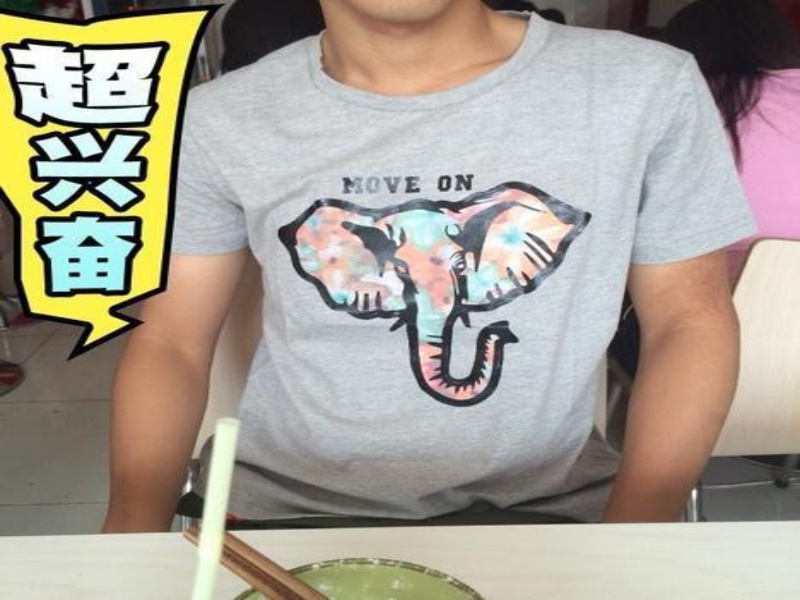short_sleeved_shirt: (162, 6, 769, 530)
